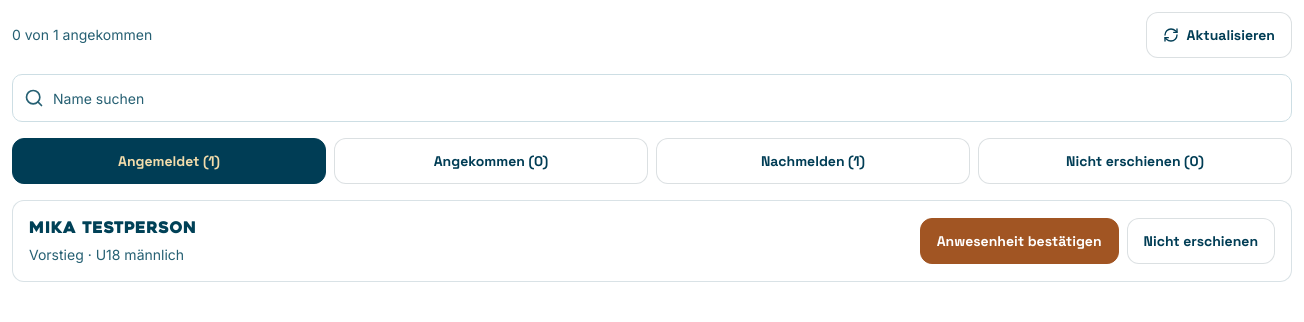
event attendance desk › does not let an older background response overwrite a confirmed check-in
The width and height of the screenshot is (1304, 322).
Step 1. Click the button with aria-label "Anwesenheit von Mika Testperson bestätigen" → (1019, 241), box [920,218,1119,264]
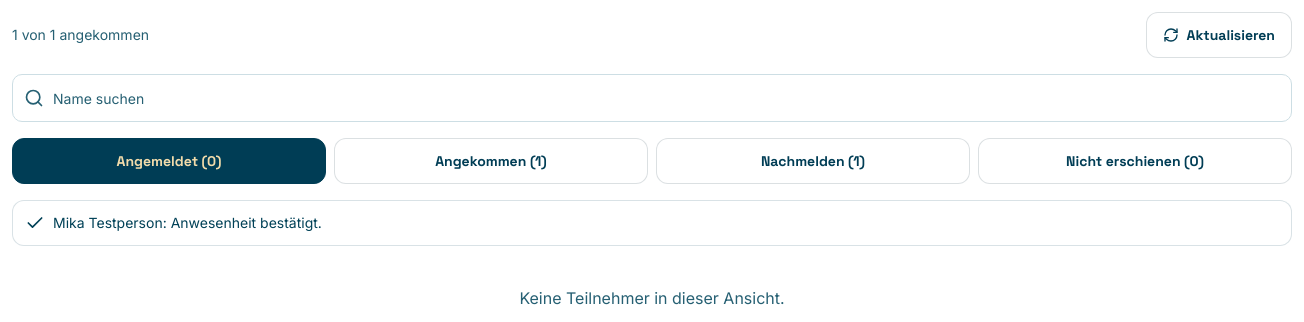
Expected: the text named "Angekommen: 1 von 1" is shown, [12,25,149,45]
